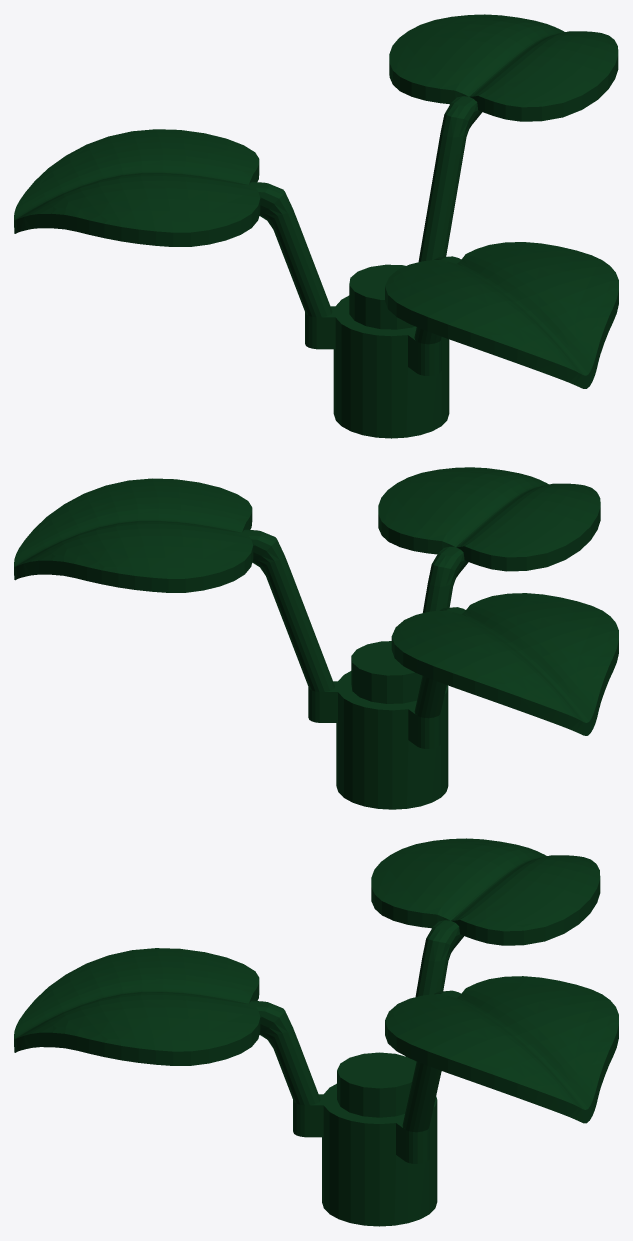
Rendered from weed.fbx.
3 views of the same model, one above another, from view 1: azimuth 30°, elevation 25°; view 2: azimuth 150°, elevation 25°; view 3: azimuth 270°, elevation 25° (orthographic). The views are drawn at different scales.
Parts seen in each view (by area): view 1: Gras.007; view 2: Gras.007; view 3: Gras.007.
Part boxes in pixels (x1,y1,x2,y2): Gras.007: [14, 14, 618, 438]; Gras.007: [14, 467, 618, 809]; Gras.007: [14, 838, 618, 1226].
Bounding box in the file's own units: 189 × 86.36 × 170.
